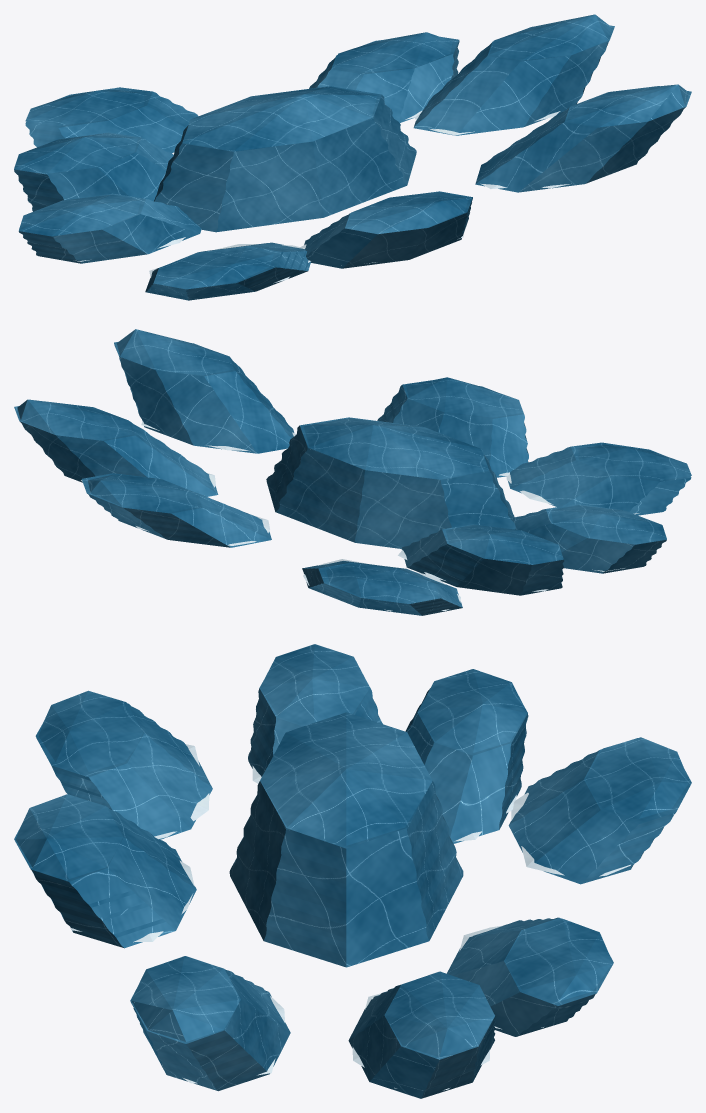
The model's file is BossRoom_CrystalRubble.fbx.
3 renders of one model, top to bottom at view 1: azimuth 30°, elevation 25°; view 2: azimuth 150°, elevation 25°; view 3: azimuth 270°, elevation 25°, orthographic. The views are drawn at different scales.
Parts seen in each view (by area): view 1: WO_BossRoom_CrystalRubble_LOD0; view 2: WO_BossRoom_CrystalRubble_LOD0; view 3: WO_BossRoom_CrystalRubble_LOD0.
Boxes of the visible parts, <box> form: WO_BossRoom_CrystalRubble_LOD0: <box>14,14,691,300</box>; WO_BossRoom_CrystalRubble_LOD0: <box>14,329,691,615</box>; WO_BossRoom_CrystalRubble_LOD0: <box>14,644,691,1098</box>.
Size of what is drawn, in the model's own units: 6 by 0.7976 by 3.94.
